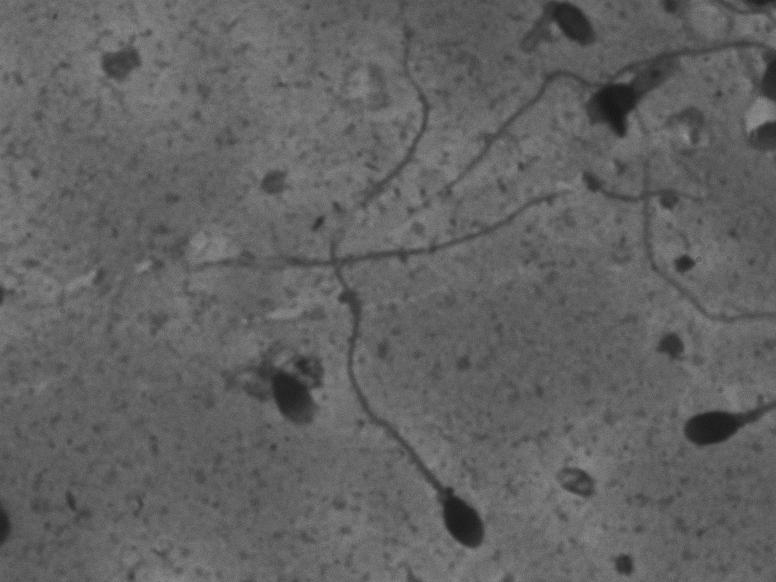Abnormal: (206, 335, 329, 452), (569, 49, 690, 156)
Normal: (309, 12, 499, 553)
